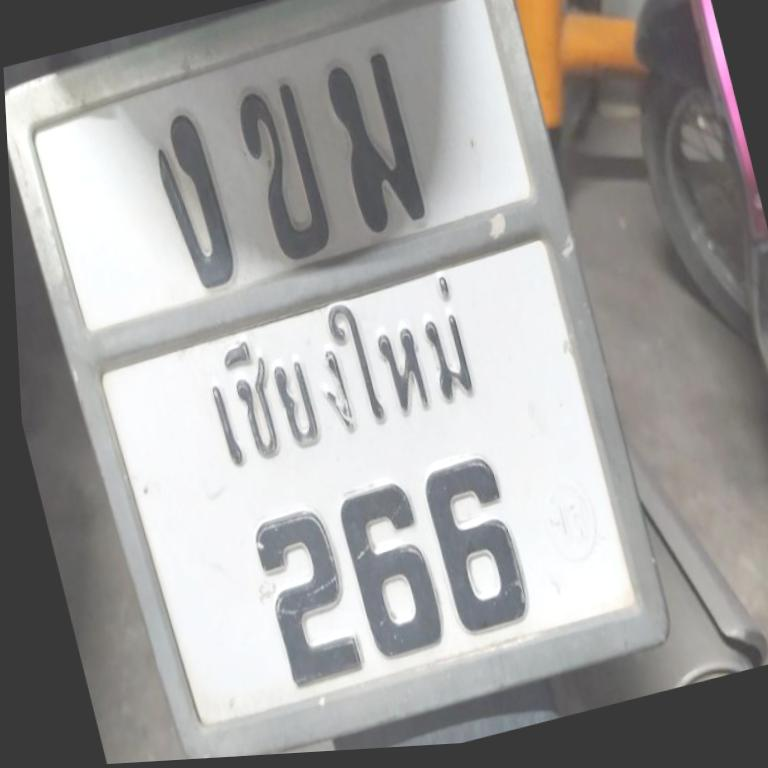license plate: (0, 0, 701, 768)
